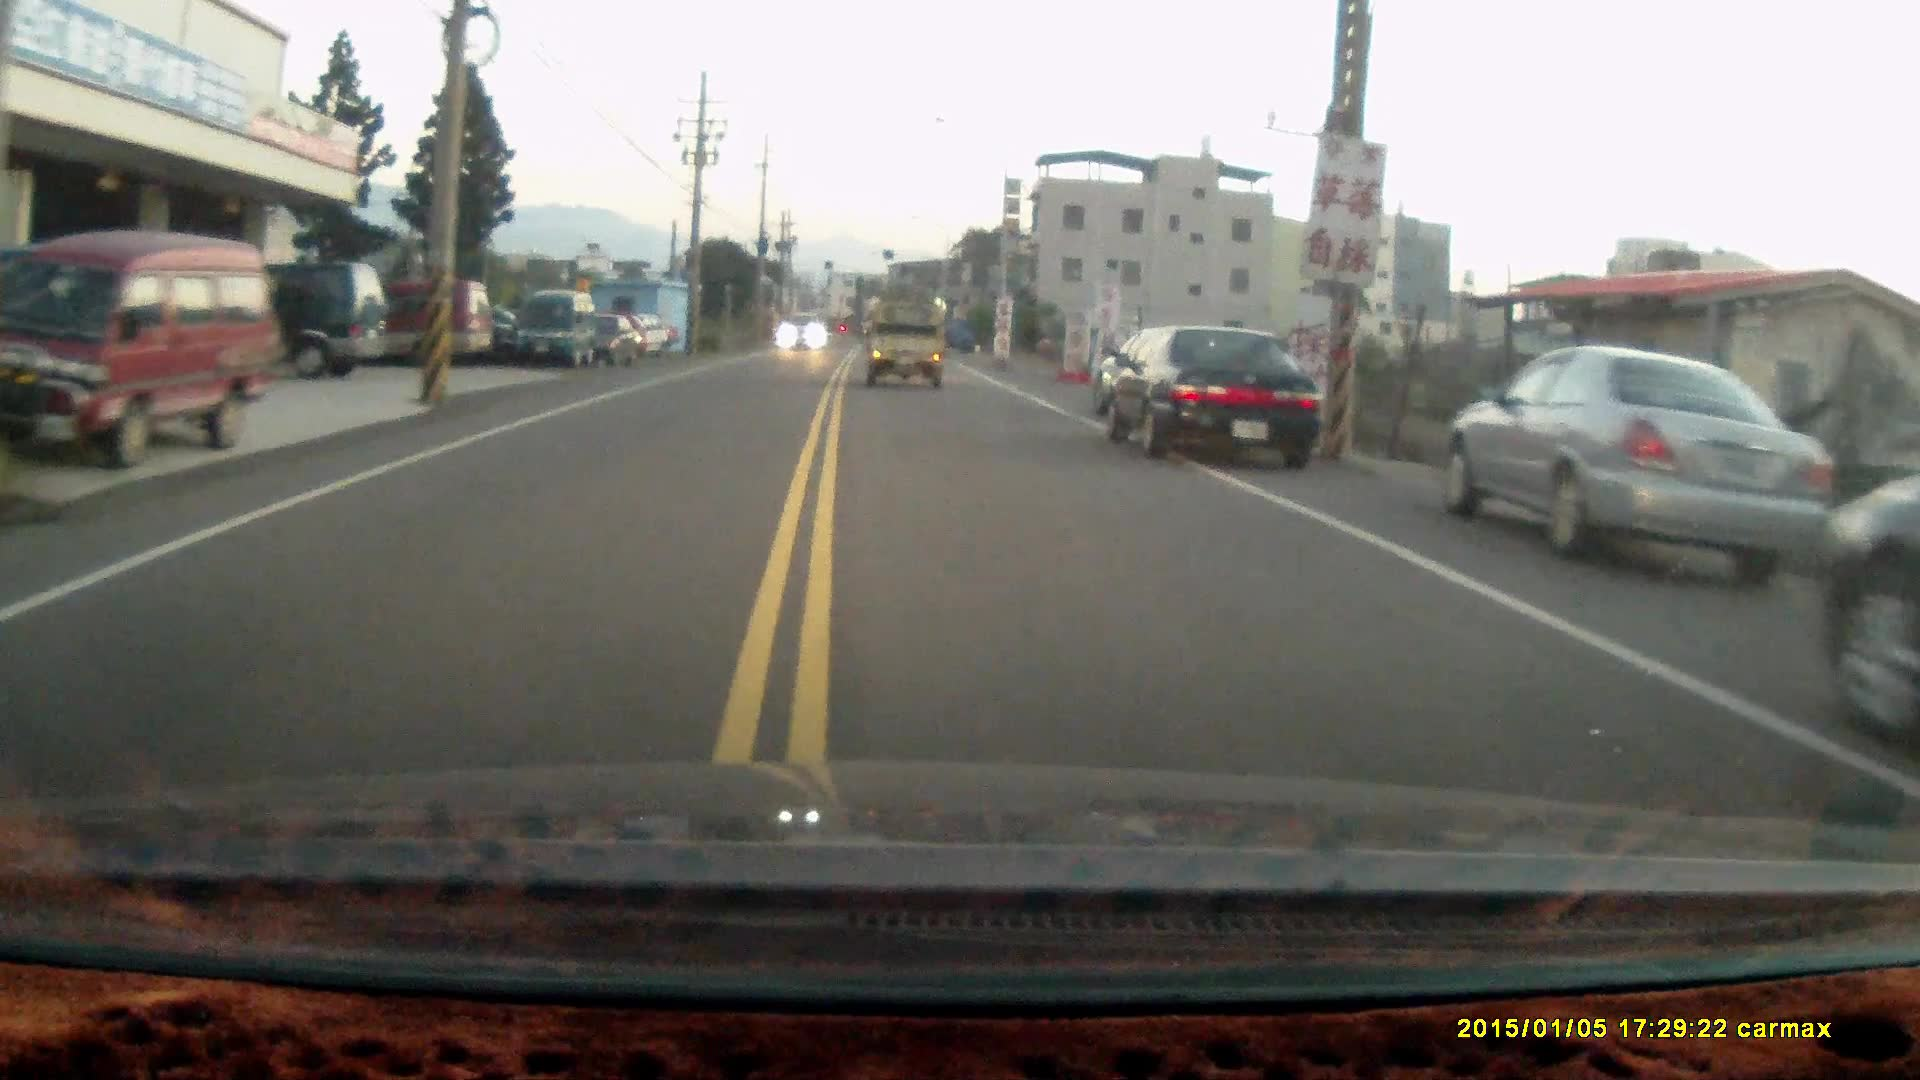vehicle: (1445, 342, 1847, 575), (12, 225, 286, 460), (1098, 322, 1327, 475), (167, 253, 393, 382), (1811, 469, 1920, 733), (335, 274, 504, 361), (864, 294, 952, 386), (517, 284, 607, 364), (779, 310, 827, 351)
